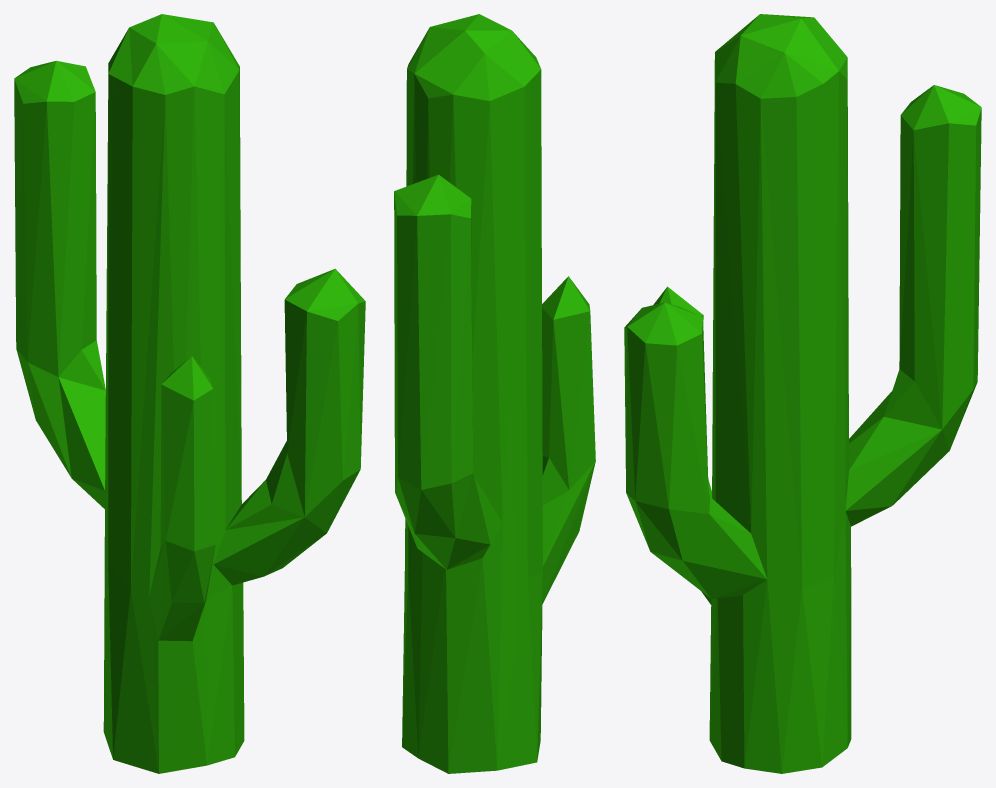
The model's file is Cactus.fbx.
3 views of the same model, side by side, from view 1: azimuth 30°, elevation 25°; view 2: azimuth 150°, elevation 25°; view 3: azimuth 270°, elevation 25° (orthographic).
Parts seen in each view (by area): view 1: Cactus; view 2: Cactus; view 3: Cactus.
Part boxes in pixels (left/top/right/bottom): Cactus: left=14, top=14, right=365, bottom=773; Cactus: left=394, top=14, right=595, bottom=773; Cactus: left=624, top=14, right=981, bottom=773.
Bounding box in the file's own units: 77.32 × 268 × 118.
